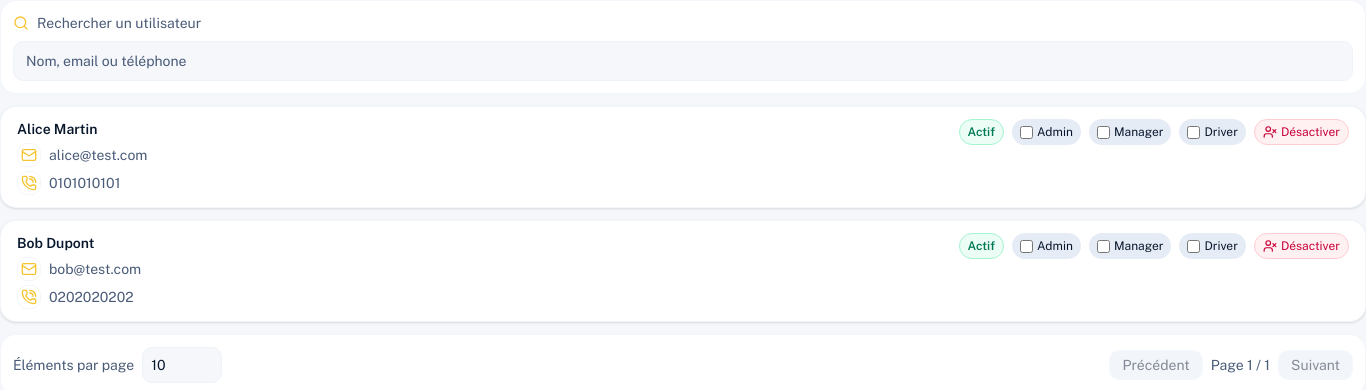
UsersTable search and activation › filtre la liste via le champ de recherche
In the search field with placeholder "Nom, email ou téléphone": [683, 61] box [13,41,1353,81], type "alice"
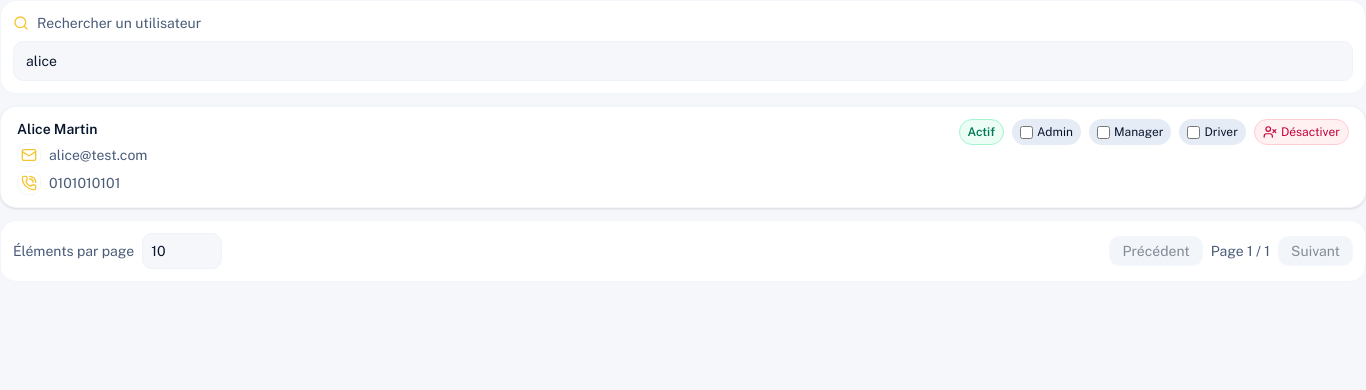
Expected: the text "Alice Martin" is shown, [17,121,97,137]
Result: the text "Bob Dupont" is gone
